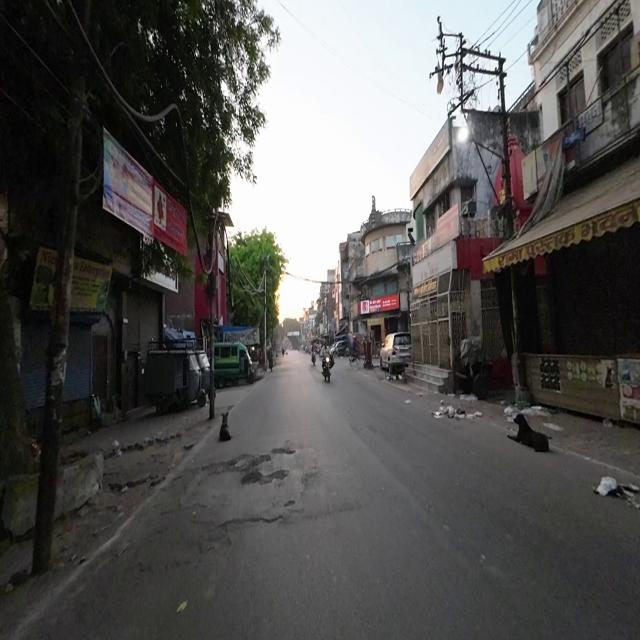Garbage: (431, 392, 478, 428), (596, 474, 640, 512), (505, 399, 513, 421)
